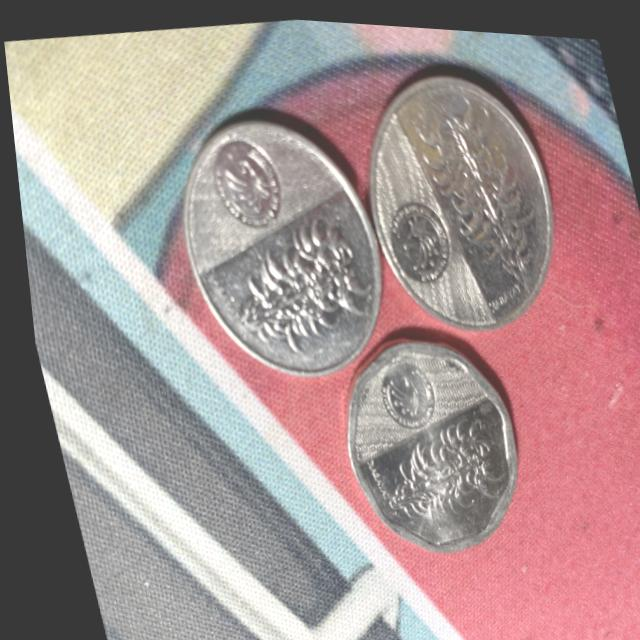5_New_Back: (417, 91, 548, 286), (209, 215, 373, 359), (361, 409, 514, 536)
